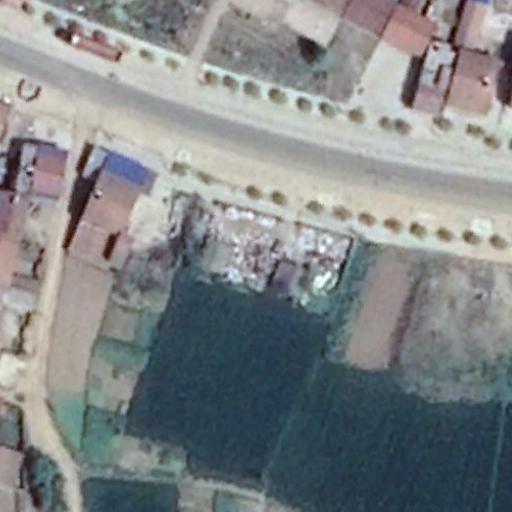msw: (209, 204, 354, 301)
